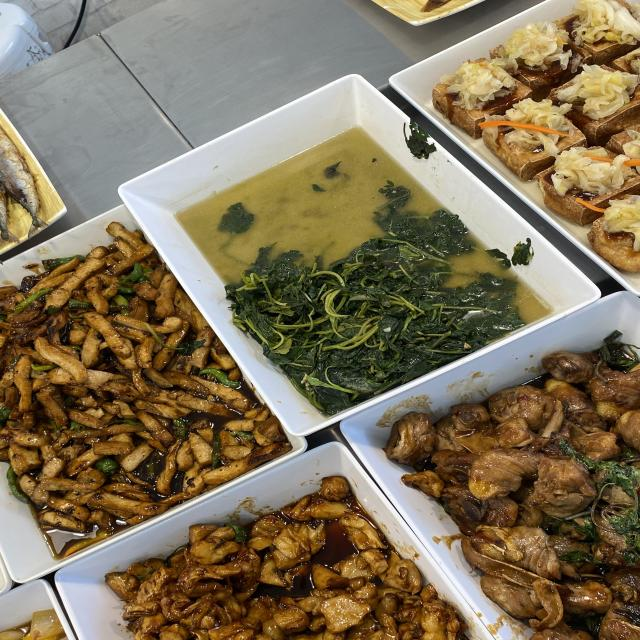Fried dried beans: (11, 340, 208, 482)
sweet potato leaves: (270, 236, 459, 351)
three-cup chicken: (461, 421, 634, 546)
